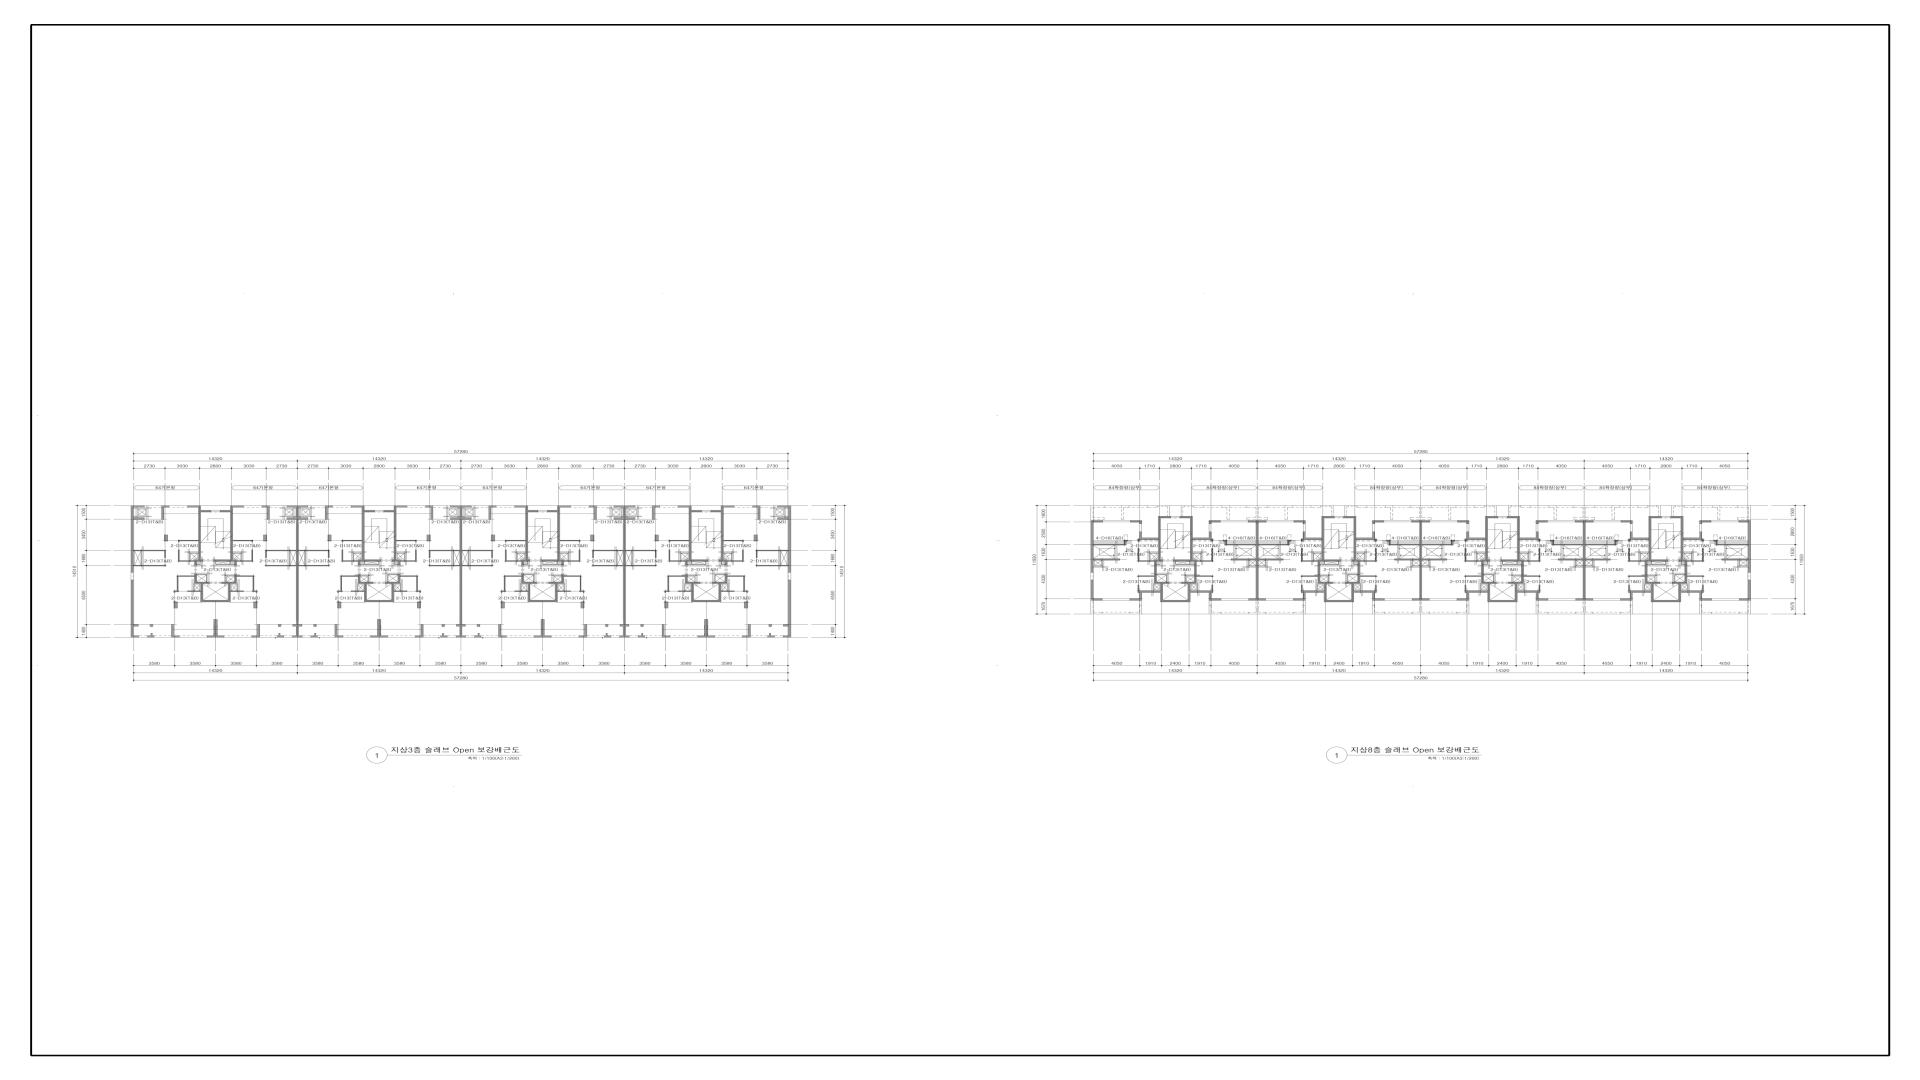wall: (296, 507, 299, 624), (623, 507, 626, 624), (460, 507, 462, 624), (1583, 522, 1586, 598), (1256, 522, 1259, 598), (198, 505, 201, 562), (557, 505, 560, 562), (230, 505, 233, 560), (689, 505, 692, 560), (525, 505, 528, 559), (721, 506, 724, 560), (1420, 522, 1422, 598), (1158, 516, 1161, 562), (1517, 516, 1520, 562), (131, 505, 133, 572), (1190, 516, 1193, 560), (1681, 516, 1684, 560), (1485, 516, 1488, 559), (131, 580, 133, 637), (789, 580, 791, 637), (394, 505, 396, 560), (362, 506, 364, 559), (1091, 520, 1093, 572), (1748, 520, 1751, 550), (1354, 516, 1356, 560), (1649, 516, 1651, 560), (789, 507, 791, 550), (1322, 516, 1324, 559), (358, 559, 381, 562), (1174, 559, 1197, 562), (1318, 559, 1341, 562), (377, 619, 381, 636), (541, 619, 545, 636), (704, 619, 708, 636), (1154, 562, 1157, 584), (1481, 562, 1484, 584), (1645, 562, 1648, 584), (1748, 551, 1751, 573), (1748, 580, 1751, 601), (691, 600, 721, 602), (1194, 562, 1197, 582), (1521, 562, 1524, 582), (1651, 600, 1681, 602), (200, 584, 203, 602), (228, 584, 231, 602), (364, 584, 367, 602), (555, 584, 558, 602), (1160, 584, 1163, 602), (1324, 584, 1327, 602), (1351, 584, 1354, 602), (214, 619, 217, 636), (1249, 598, 1266, 601), (203, 600, 228, 602), (367, 600, 392, 602), (530, 600, 555, 602), (1163, 600, 1188, 602), (1490, 600, 1515, 602), (691, 584, 694, 600), (1327, 600, 1351, 602), (1651, 584, 1654, 600), (685, 560, 708, 562), (1190, 591, 1213, 593), (1301, 591, 1324, 593), (1354, 591, 1377, 593), (1465, 591, 1488, 593), (1517, 591, 1540, 593), (1645, 560, 1668, 562), (1628, 591, 1651, 593), (1681, 591, 1704, 593), (789, 551, 791, 573), (1138, 591, 1160, 593), (396, 540, 417, 542), (594, 506, 597, 520), (614, 505, 635, 507), (1091, 580, 1093, 601), (178, 540, 198, 542), (214, 560, 234, 562), (233, 540, 253, 542), (342, 540, 362, 542), (505, 540, 525, 542), (560, 540, 580, 542), (669, 540, 689, 542), (724, 540, 744, 542), (1318, 562, 1320, 582), (1358, 562, 1360, 582), (1685, 562, 1687, 582), (161, 507, 164, 520), (267, 507, 270, 520), (325, 507, 328, 520), (652, 507, 655, 520), (257, 624, 260, 637), (498, 624, 501, 637), (748, 624, 751, 637), (1303, 538, 1322, 540), (1356, 538, 1375, 540), (1411, 520, 1430, 522), (1520, 538, 1539, 540), (1575, 520, 1594, 522), (1630, 538, 1649, 540), (1683, 538, 1702, 540), (133, 517, 145, 520), (392, 584, 394, 602), (370, 636, 388, 638), (528, 584, 530, 602), (171, 624, 174, 636), (1188, 584, 1190, 602), (1488, 584, 1490, 602), (1515, 584, 1517, 602), (1140, 538, 1158, 540), (1193, 538, 1211, 540), (1248, 520, 1266, 522), (1467, 538, 1485, 540), (237, 575, 254, 577), (207, 636, 224, 638), (504, 575, 521, 577), (541, 560, 558, 562), (1412, 599, 1429, 601), (1576, 599, 1593, 601), (133, 565, 166, 566), (133, 550, 166, 551), (756, 565, 789, 566), (758, 550, 791, 551), (778, 517, 789, 520), (178, 560, 194, 562), (237, 560, 253, 562), (564, 575, 580, 577), (719, 584, 721, 600), (712, 582, 728, 584), (1138, 560, 1154, 562), (1181, 582, 1197, 584), (1197, 575, 1213, 577), (1197, 560, 1213, 562), (1465, 575, 1481, 577), (1501, 560, 1517, 562), (1687, 575, 1703, 577), (1679, 584, 1681, 600), (265, 565, 296, 566), (429, 565, 460, 566), (462, 565, 493, 566), (592, 565, 623, 566), (592, 550, 623, 551), (626, 565, 657, 566), (1093, 544, 1124, 545), (1717, 544, 1748, 545), (194, 574, 197, 584), (222, 582, 237, 584), (299, 550, 329, 551), (299, 565, 329, 566), (358, 582, 373, 584), (385, 582, 400, 584), (343, 560, 358, 562), (400, 560, 415, 562), (431, 505, 433, 520), (430, 550, 460, 551), (521, 574, 524, 584), (549, 582, 564, 584), (564, 560, 579, 562), (670, 560, 685, 562), (685, 574, 688, 584), (743, 576, 745, 591), (728, 575, 743, 577), (296, 626, 299, 636), (623, 626, 626, 636), (1318, 582, 1333, 584), (1345, 582, 1360, 584), (1303, 560, 1318, 562), (1360, 560, 1375, 562), (1466, 560, 1481, 562), (1509, 582, 1524, 584), (1524, 560, 1539, 562), (1630, 560, 1645, 562), (1672, 582, 1687, 584), (1687, 560, 1702, 562), (1258, 544, 1288, 545), (1390, 544, 1420, 545), (1293, 598, 1303, 601), (1375, 598, 1385, 601), (1457, 598, 1467, 601), (1620, 598, 1630, 601), (1702, 598, 1712, 601), (267, 550, 296, 551), (462, 550, 491, 551), (626, 550, 655, 551), (1422, 544, 1451, 545), (1227, 544, 1256, 545), (1554, 544, 1583, 545), (1586, 544, 1615, 545), (174, 601, 178, 608), (337, 601, 341, 608), (416, 577, 418, 591), (417, 601, 421, 608), (507, 560, 521, 562), (501, 601, 505, 608), (744, 601, 748, 608), (728, 560, 742, 562), (1702, 548, 1704, 562), (287, 517, 296, 520), (299, 517, 308, 520), (614, 517, 623, 520), (626, 517, 635, 520), (1093, 598, 1102, 601), (1093, 559, 1120, 560), (1130, 598, 1139, 601), (1539, 598, 1548, 601), (1739, 598, 1748, 601), (489, 507, 491, 520), (524, 582, 537, 584), (758, 507, 760, 520), (778, 505, 791, 507), (421, 624, 423, 637), (585, 624, 587, 637), (662, 624, 664, 637), (1394, 559, 1420, 560), (1484, 582, 1497, 584), (1722, 559, 1748, 560), (1231, 559, 1256, 560), (1258, 559, 1283, 560), (1422, 559, 1447, 560), (1558, 559, 1583, 560), (1586, 559, 1611, 560), (164, 535, 168, 541), (197, 582, 209, 584), (234, 574, 237, 582), (263, 535, 267, 541), (415, 550, 417, 562), (427, 535, 431, 541), (491, 535, 495, 541), (505, 550, 507, 562), (590, 535, 594, 541), (655, 535, 659, 541), (688, 582, 700, 584), (725, 574, 728, 582), (742, 550, 744, 562), (754, 535, 758, 541), (335, 624, 337, 636), (1157, 582, 1169, 584), (1211, 548, 1213, 560), (1648, 582, 1660, 584), (1139, 593, 1142, 601), (1130, 520, 1142, 522), (1209, 520, 1221, 522), (1294, 520, 1306, 522), (1372, 593, 1375, 601), (1372, 520, 1384, 522), (1457, 520, 1469, 522), (1536, 520, 1548, 522), (1536, 593, 1539, 601), (1621, 520, 1633, 522), (1630, 593, 1633, 601), (187, 505, 198, 507), (233, 505, 244, 507), (450, 506, 472, 507), (678, 505, 689, 507), (724, 505, 735, 507), (364, 510, 375, 512), (1651, 516, 1662, 518), (1700, 520, 1711, 522), (254, 601, 257, 608), (287, 506, 308, 507), (581, 601, 584, 608), (665, 601, 668, 608), (178, 550, 180, 560), (450, 518, 460, 520), (462, 518, 472, 520), (201, 510, 211, 512), (220, 510, 230, 512), (384, 510, 394, 512), (456, 624, 466, 626), (460, 626, 462, 636), (528, 510, 538, 512), (547, 510, 557, 512), (692, 510, 702, 512), (711, 510, 721, 512), (1093, 520, 1103, 522), (1161, 516, 1171, 518), (1180, 516, 1190, 518), (1211, 598, 1221, 600), (1324, 516, 1334, 518), (1344, 516, 1354, 518), (1488, 516, 1498, 518), (1507, 516, 1517, 518), (1671, 516, 1681, 518), (328, 535, 331, 541), (400, 576, 418, 577), (521, 560, 530, 562), (719, 560, 728, 562), (293, 624, 302, 626), (620, 624, 629, 626), (1627, 576, 1645, 577), (1139, 532, 1142, 538), (1372, 532, 1375, 538), (1466, 532, 1469, 538), (1536, 532, 1539, 538), (1630, 532, 1633, 538), (1739, 520, 1748, 522), (177, 576, 194, 577), (341, 576, 358, 577), (534, 636, 551, 637), (668, 576, 685, 577), (698, 636, 715, 637), (1301, 576, 1318, 577), (1360, 576, 1377, 577), (262, 505, 270, 507), (265, 550, 267, 558), (325, 505, 333, 507), (358, 574, 360, 582), (398, 574, 400, 582), (392, 560, 400, 562), (491, 550, 493, 558), (562, 574, 564, 582), (580, 575, 581, 591), (655, 550, 657, 558), (652, 505, 660, 507), (756, 550, 758, 558), (1138, 576, 1154, 577), (1352, 560, 1360, 562), (1481, 560, 1489, 562), (1524, 576, 1540, 577), (1679, 560, 1687, 562), (1303, 593, 1305, 601), (1467, 593, 1469, 601), (1700, 593, 1702, 601), (234, 560, 237, 565), (164, 551, 166, 558), (177, 577, 178, 591), (187, 591, 201, 592), (253, 577, 254, 591), (341, 577, 342, 591), (504, 577, 505, 591), (592, 551, 594, 558), (668, 577, 669, 591), (753, 505, 760, 507), (1302, 548, 1303, 562), (1465, 548, 1466, 562), (1539, 548, 1540, 562), (1629, 548, 1630, 562), (1375, 548, 1376, 562), (1209, 593, 1211, 600), (231, 591, 244, 592), (351, 591, 364, 592), (394, 591, 407, 592), (515, 591, 528, 592), (558, 591, 571, 592), (678, 591, 691, 592), (721, 591, 734, 592), (133, 506, 145, 507), (337, 591, 343, 593), (342, 550, 343, 562), (579, 550, 580, 562), (669, 550, 670, 562), (783, 624, 789, 626), (133, 624, 139, 626), (1138, 548, 1139, 560), (1301, 585, 1303, 591), (1628, 585, 1630, 591), (1702, 585, 1704, 591), (1375, 585, 1377, 591), (1209, 532, 1211, 538), (1303, 532, 1305, 538), (1700, 532, 1702, 538), (351, 506, 362, 507), (396, 506, 407, 507), (515, 506, 526, 507), (560, 506, 571, 507), (174, 591, 179, 593), (252, 591, 257, 593), (252, 550, 253, 560), (292, 636, 302, 637), (416, 591, 421, 593), (456, 636, 466, 637), (426, 505, 431, 507), (501, 591, 506, 593), (579, 591, 584, 593), (619, 636, 629, 637), (665, 591, 670, 593), (743, 591, 748, 593), (194, 562, 197, 565), (521, 562, 524, 565), (561, 562, 564, 565), (685, 562, 688, 565), (725, 562, 728, 565), (150, 624, 153, 627), (171, 636, 180, 637), (278, 624, 281, 627), (314, 624, 317, 627), (442, 624, 445, 627), (605, 624, 608, 627), (769, 624, 772, 627), (477, 624, 480, 627), (641, 624, 644, 627), (161, 506, 169, 507), (194, 560, 198, 562), (429, 550, 430, 558), (560, 560, 564, 562), (335, 636, 343, 637), (1154, 560, 1158, 562), (1520, 560, 1524, 562), (1124, 541, 1126, 545), (1225, 541, 1227, 545), (1451, 541, 1453, 545), (1552, 541, 1554, 545), (1716, 541, 1718, 545), (328, 551, 329, 558), (489, 506, 496, 507), (147, 636, 154, 637), (277, 636, 284, 637), (311, 636, 318, 637), (474, 636, 481, 637), (604, 636, 611, 637), (638, 636, 645, 637), (768, 636, 775, 637), (133, 636, 139, 637), (358, 562, 360, 565), (398, 562, 400, 565), (252, 636, 258, 637), (314, 633, 316, 636), (415, 636, 421, 637), (441, 636, 447, 637), (442, 633, 444, 636), (478, 633, 480, 636), (501, 636, 507, 637), (579, 636, 585, 637), (606, 633, 608, 636), (664, 636, 670, 637), (742, 636, 748, 637), (769, 633, 771, 636), (783, 636, 789, 637), (1465, 585, 1466, 591), (1539, 585, 1540, 591), (1138, 585, 1139, 591), (1212, 585, 1213, 591), (1138, 539, 1140, 542), (1211, 539, 1213, 542), (1139, 522, 1142, 524), (1301, 539, 1303, 542), (1303, 522, 1306, 524), (1375, 539, 1377, 542), (1372, 522, 1375, 524), (1465, 539, 1467, 542), (1536, 522, 1539, 524), (1628, 539, 1630, 542), (1630, 522, 1633, 524), (1702, 539, 1704, 542), (589, 506, 594, 507), (201, 560, 203, 562), (1160, 560, 1162, 562), (1223, 540, 1227, 541), (1451, 540, 1455, 541), (1550, 540, 1554, 541), (1714, 540, 1718, 541), (1288, 541, 1289, 545), (1389, 541, 1390, 545), (1615, 541, 1616, 545), (1209, 522, 1211, 524), (1467, 522, 1469, 524), (1700, 522, 1702, 524), (151, 633, 152, 636), (279, 633, 280, 636), (642, 633, 643, 636), (1124, 540, 1127, 541), (1288, 540, 1291, 541), (1387, 540, 1390, 541), (1615, 540, 1618, 541), (1539, 539, 1540, 542)
